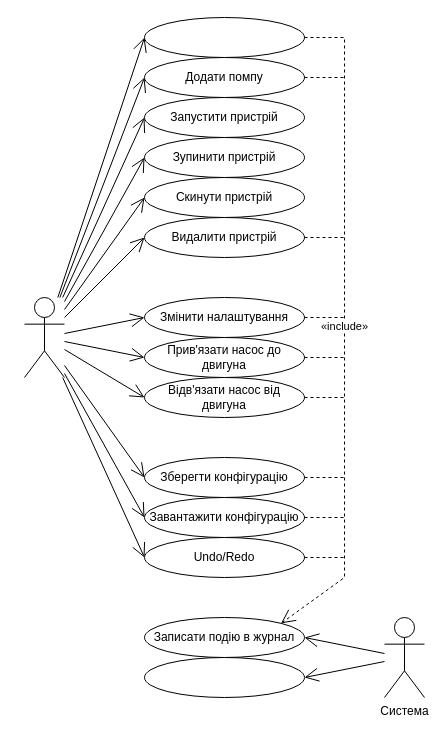
The diagram is 446 pixels wide and 736 high, and some of its shapes have lost their labels. The box of each missing label's shape, as (x1, y1, x2, y2) in pixels:
Додати двигун: (144, 16, 304, 58)
Моніторинг температури/Алярм: (144, 656, 304, 698)
Оператор: (24, 296, 64, 378)
